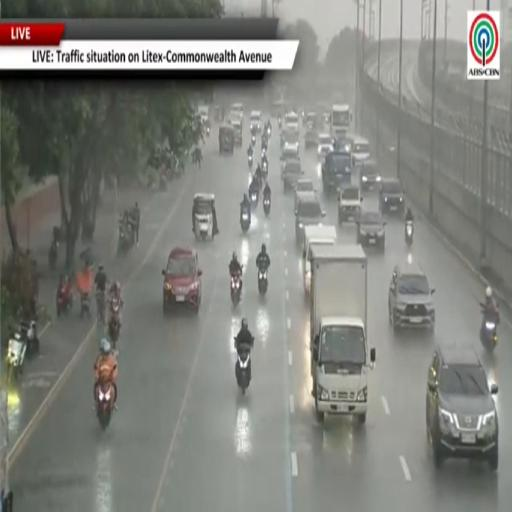bus: (331, 105, 351, 136)
car: (426, 346, 498, 471), (389, 259, 435, 330), (162, 248, 202, 313), (295, 192, 325, 246), (357, 211, 386, 250), (338, 185, 362, 225), (379, 180, 405, 214), (283, 159, 303, 193), (294, 179, 315, 211), (360, 159, 381, 190), (281, 143, 299, 179), (351, 137, 369, 166), (318, 134, 333, 161), (280, 128, 299, 149), (249, 110, 262, 133), (231, 120, 242, 147), (285, 111, 299, 131), (305, 128, 318, 149), (231, 103, 244, 123), (306, 111, 318, 130)
motorcycle: (6, 322, 39, 383), (6, 333, 26, 383), (96, 380, 115, 429), (19, 320, 39, 357), (480, 312, 498, 353), (236, 345, 251, 394), (117, 221, 134, 253), (56, 285, 72, 316), (108, 316, 120, 349), (231, 274, 242, 305), (48, 238, 58, 269), (96, 291, 105, 325), (258, 267, 267, 294), (80, 293, 90, 317), (405, 220, 413, 247), (110, 297, 120, 318), (240, 212, 250, 232), (250, 191, 258, 209), (159, 173, 167, 190), (264, 197, 270, 216), (262, 158, 267, 180), (261, 146, 267, 161), (248, 155, 253, 168), (267, 126, 271, 137), (206, 125, 210, 136), (278, 117, 281, 129), (252, 135, 255, 147)
truck: (310, 244, 375, 424), (303, 226, 336, 296), (0, 388, 13, 511), (322, 150, 353, 195)
